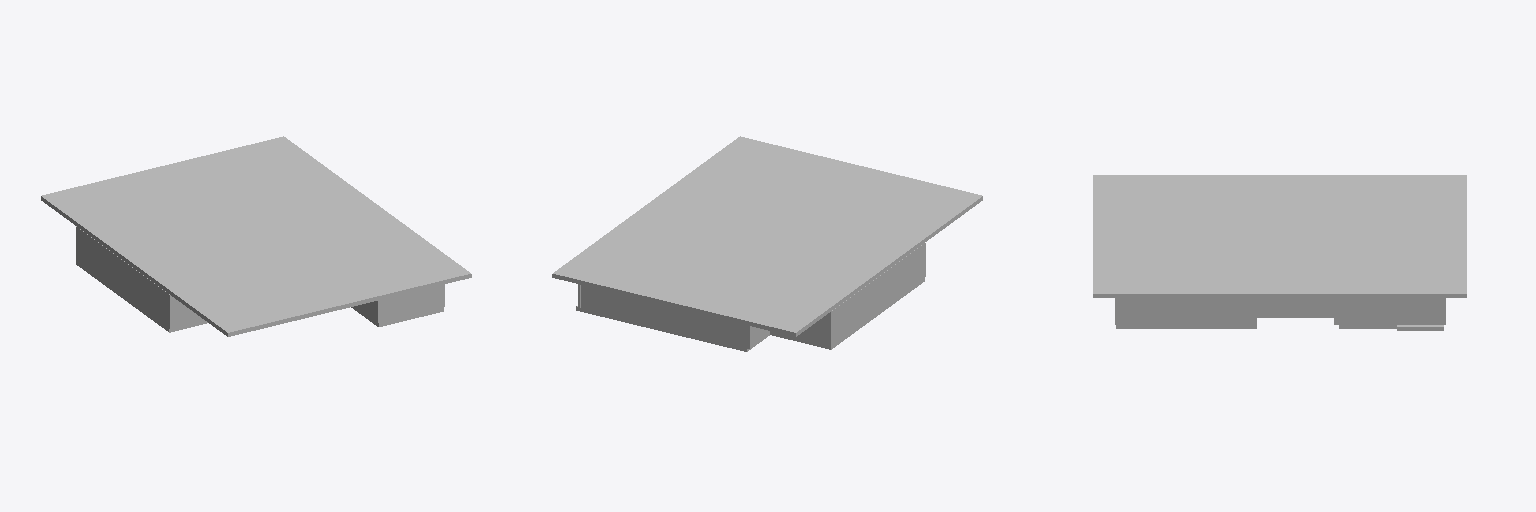
File: etage2_collision.obj
3 views of the same model, side by side, from view 1: azimuth 30°, elevation 25°; view 2: azimuth 150°, elevation 25°; view 3: azimuth 270°, elevation 25° (orthographic).
Parts seen in each view (by area): view 1: Cube.022, Cube.020, Cube.011, Cube.051, Cube.019; view 2: Cube.022, Cube.005, Cube.011, Cube.020, Cube.006, Cube.014; view 3: Cube.022, Cube.050, Cube.034, Cube.043, Cube.058.
Part boxes in pixels (left/top/right/bottom): Cube.022: left=41, top=136, right=471, bottom=336; Cube.020: left=122, top=260, right=169, bottom=327; Cube.011: left=76, top=226, right=121, bottom=293; Cube.051: left=379, top=285, right=443, bottom=323; Cube.019: left=169, top=295, right=204, bottom=328; Cube.022: left=552, top=136, right=982, bottom=336; Cube.005: left=581, top=285, right=751, bottom=348; Cube.011: left=829, top=278, right=877, bottom=345; Cube.020: left=878, top=244, right=923, bottom=310; Cube.006: left=576, top=306, right=769, bottom=351; Cube.014: left=797, top=313, right=829, bottom=344; Cube.022: left=1093, top=175, right=1466, bottom=297; Cube.050: left=1116, top=298, right=1256, bottom=324; Cube.034: left=1334, top=298, right=1445, bottom=324; Cube.043: left=1257, top=298, right=1333, bottom=313; Cube.058: left=1116, top=325, right=1256, bottom=328.
Bounding box in the file's own units: 60.01 × 10.05 × 80.